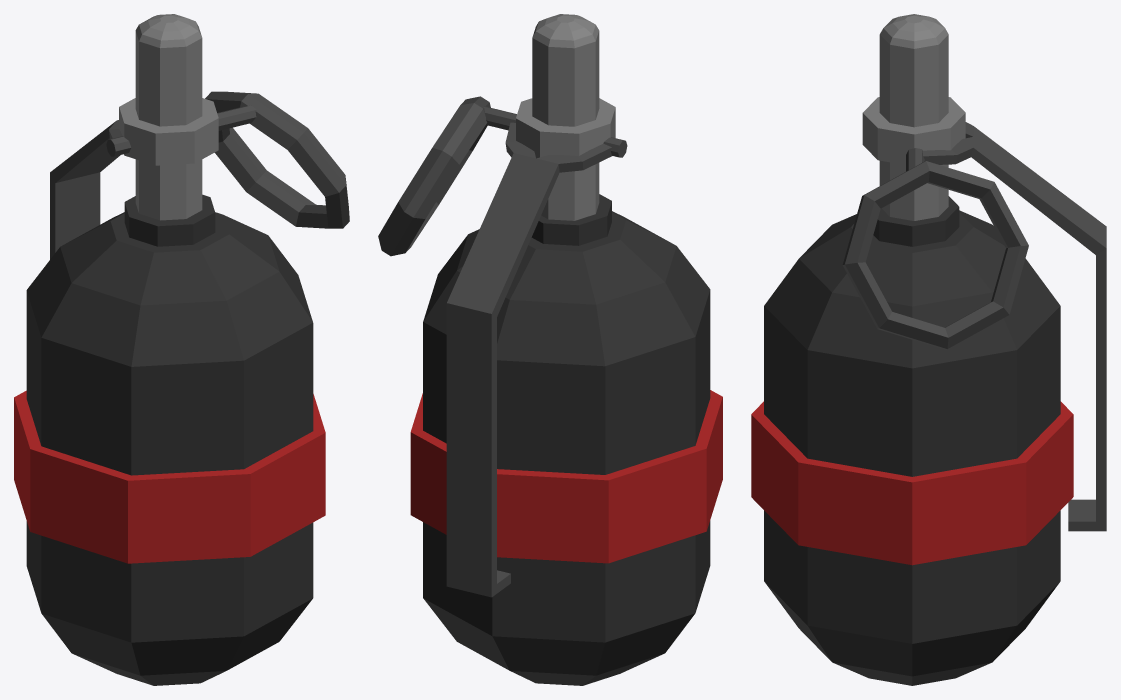
Rendered from scene_1AjKMeRrL4.glb.
3 views of the same model, side by side, from view 1: azimuth 30°, elevation 25°; view 2: azimuth 150°, elevation 25°; view 3: azimuth 270°, elevation 25° (orthographic).
Parts seen in each view (by area): view 1: Frag_East; view 2: Frag_East; view 3: Frag_East.
Part boxes in pixels (x1,y1,x2,y2): Frag_East: [14, 14, 349, 685]; Frag_East: [378, 14, 722, 685]; Frag_East: [751, 14, 1106, 685].
Bounding box in the file's own units: 0.0661 × 0.1321 × 0.0665.
